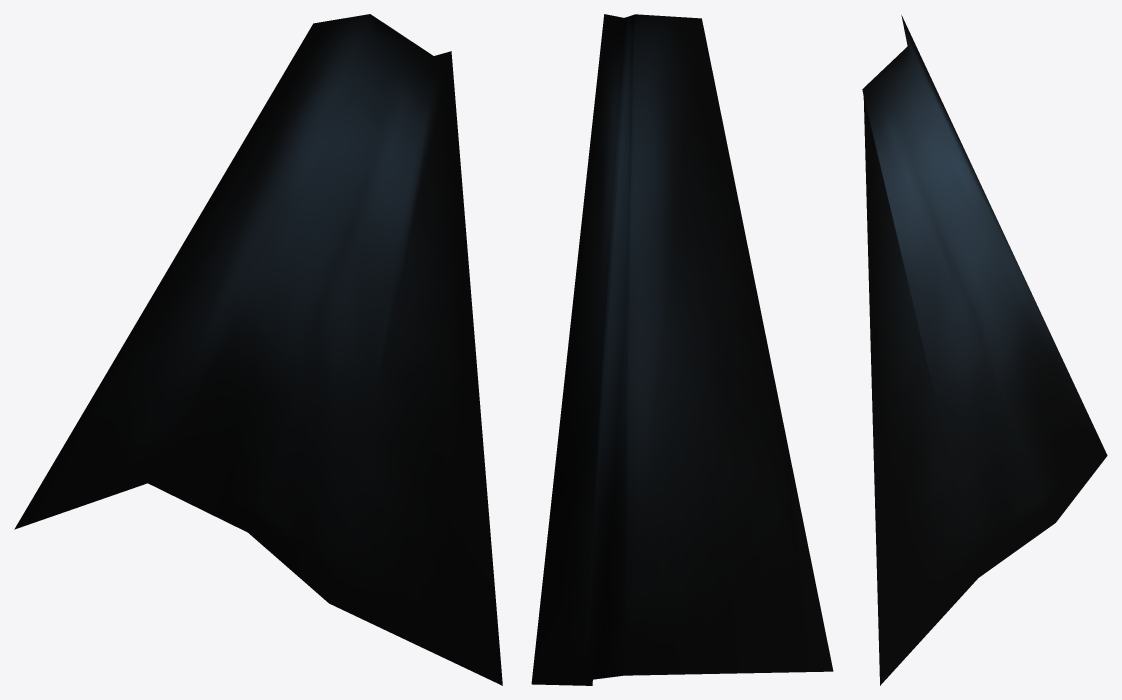
File: P_G_GodRays_01.fbx
3 views of the same model, side by side, from view 1: azimuth 30°, elevation 25°; view 2: azimuth 150°, elevation 25°; view 3: azimuth 270°, elevation 25° (orthographic). The views are drawn at different scales.
Parts seen in each view (by area): view 1: P_G_GodRays_01; view 2: P_G_GodRays_01; view 3: P_G_GodRays_01.
Part boxes in pixels (<box>): P_G_GodRays_01: <box>14,14,502,685</box>; P_G_GodRays_01: <box>531,14,833,685</box>; P_G_GodRays_01: <box>862,15,1107,685</box>.
Bounding box in the file's own units: 1040 × 1773 × 659.
